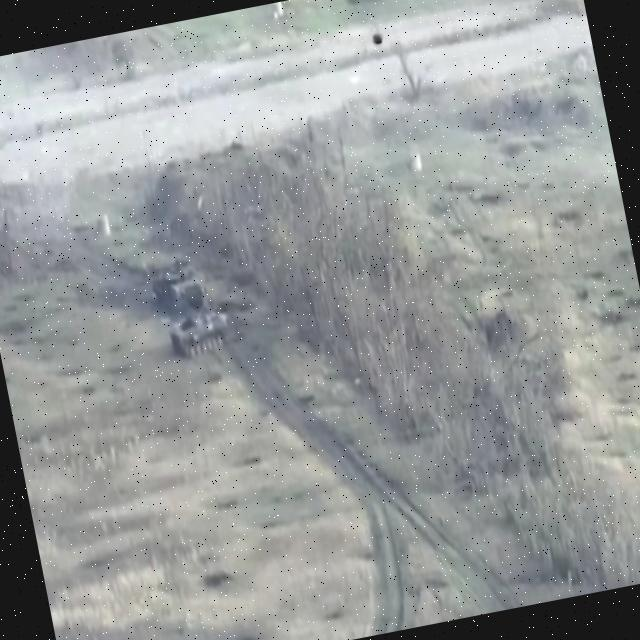AIFV: (164, 303, 240, 366)
MBT: (131, 253, 210, 320)
